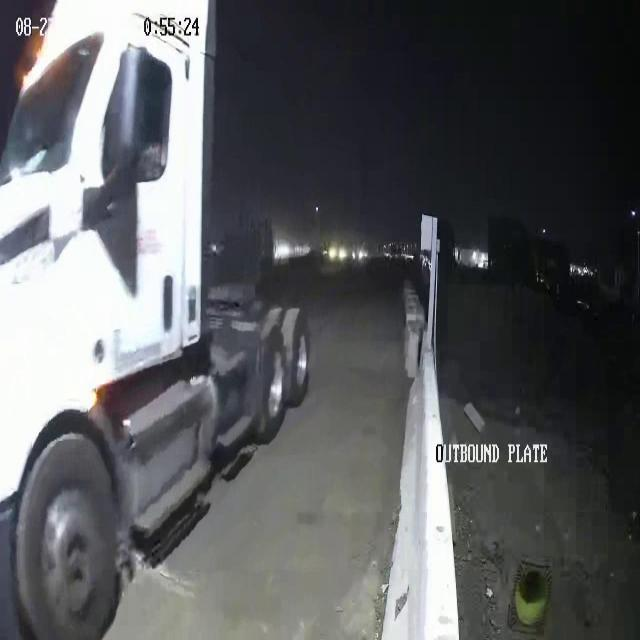TRUCK_OUT: (0, 1, 312, 638)
